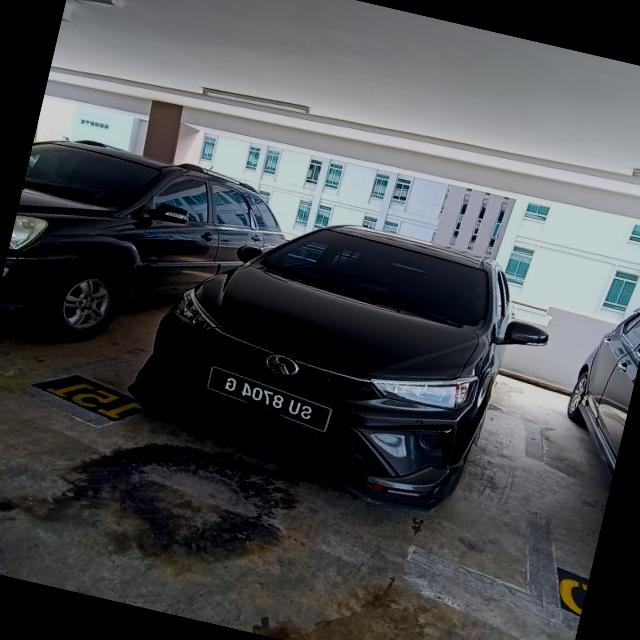PeroduaBezza: (113, 181, 564, 533)
